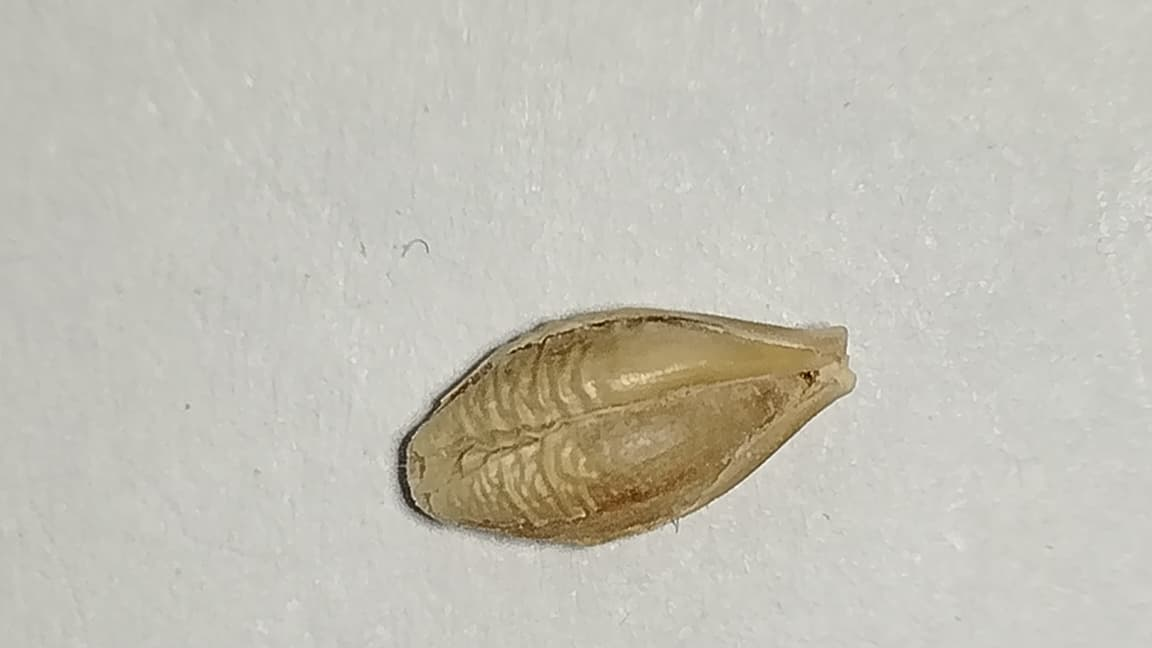healthy-70-60: (407, 309, 855, 543)
shriveledseed: (475, 335, 615, 525)
